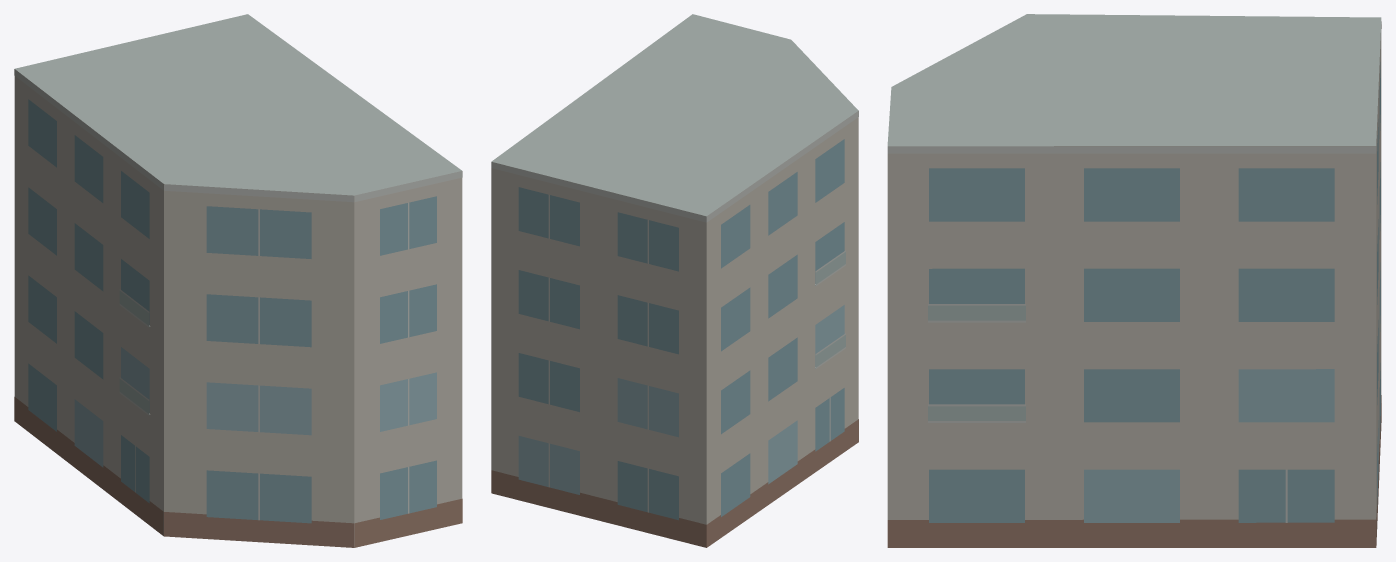
The model's file is survey-upis-32961537.glb.
The picture shows the model from 3 angles, left to right: view 1: azimuth 30°, elevation 25°; view 2: azimuth 150°, elevation 25°; view 3: azimuth 270°, elevation 25°; orthographic projection. The views are drawn at different scales.
Parts seen in each view (by area): view 1: survey-upis-32961537.tmp; view 2: survey-upis-32961537.tmp; view 3: survey-upis-32961537.tmp.
Part boxes in pixels (x1,y1,x2,y2): survey-upis-32961537.tmp: (14, 14, 462, 547); survey-upis-32961537.tmp: (491, 14, 858, 547); survey-upis-32961537.tmp: (887, 14, 1381, 547).
Size of the model in its own units: 9.09 by 12.8 by 14.28.
